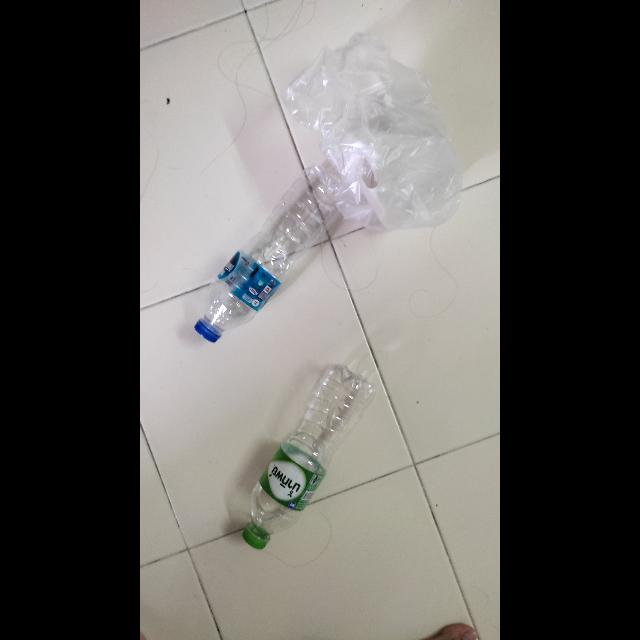plastic_bag: (278, 22, 474, 236)
plastic_bottle: (170, 164, 346, 350), (232, 362, 378, 554)
plastic_bottle_cap: (238, 520, 272, 552), (192, 316, 224, 344)
